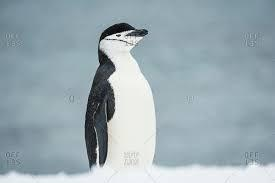chinstrap: (70, 13, 165, 177)
